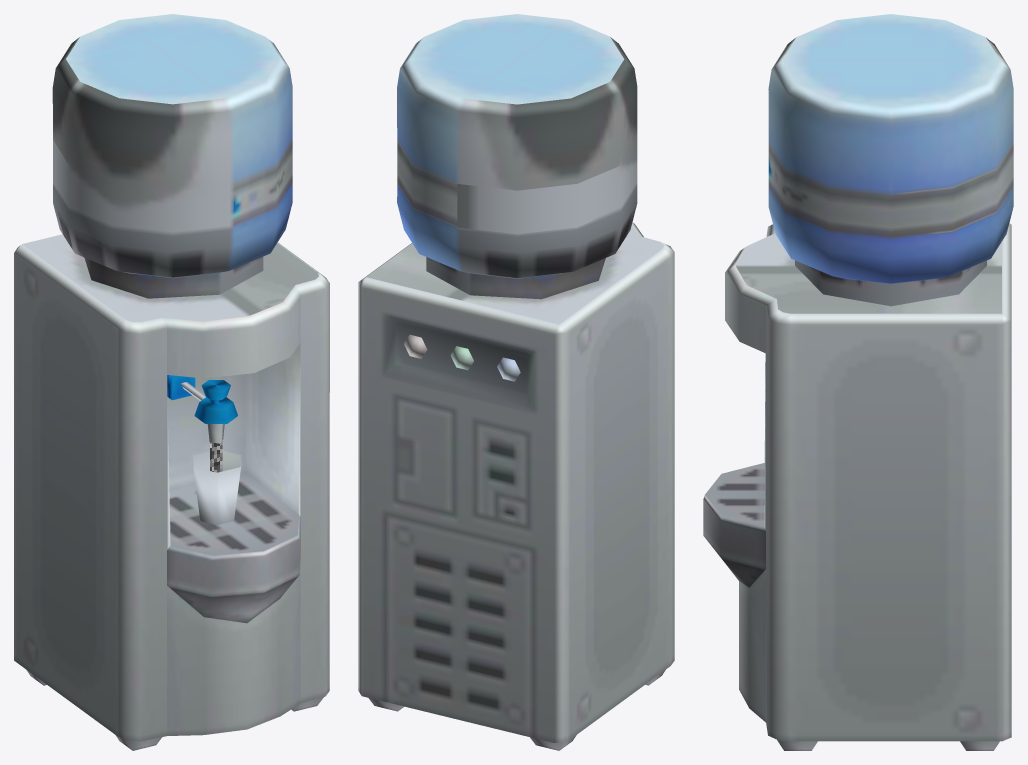
Rendered from int_oth_waterserver.dae.
The picture shows the model from 3 angles, left to right: view 1: azimuth 30°, elevation 25°; view 2: azimuth 150°, elevation 25°; view 3: azimuth 270°, elevation 25°; orthographic projection. The views are drawn at different scales.
Parts seen in each view (by area): view 1: int_oth_waterserver; view 2: int_oth_waterserver; view 3: int_oth_waterserver.
Boxes of the visible parts, <box> form: int_oth_waterserver: <box>14,14,329,750</box>; int_oth_waterserver: <box>358,14,674,750</box>; int_oth_waterserver: <box>703,14,1013,750</box>.
Size of the model in its own units: 17.92 by 51.82 by 22.61.
Materials: 4 (4 with a texture image).
